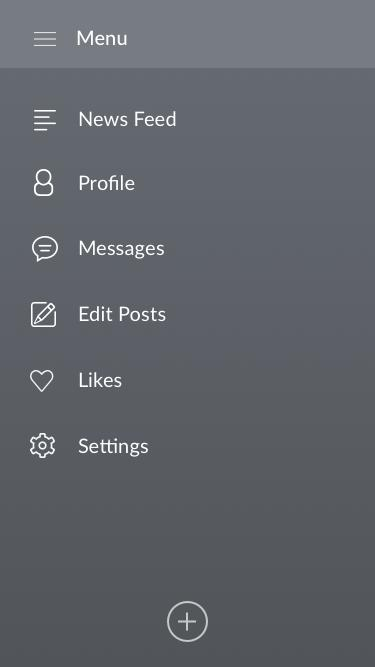Icon: (167, 600, 210, 644), (32, 236, 60, 263), (31, 302, 58, 328), (30, 433, 56, 458), (33, 169, 55, 197), (34, 109, 58, 133), (30, 370, 54, 393), (33, 32, 58, 48)
Text: (80, 240, 166, 261), (80, 111, 177, 129), (80, 305, 167, 323), (79, 438, 150, 458), (80, 175, 136, 191), (77, 31, 128, 48), (80, 371, 123, 388)
